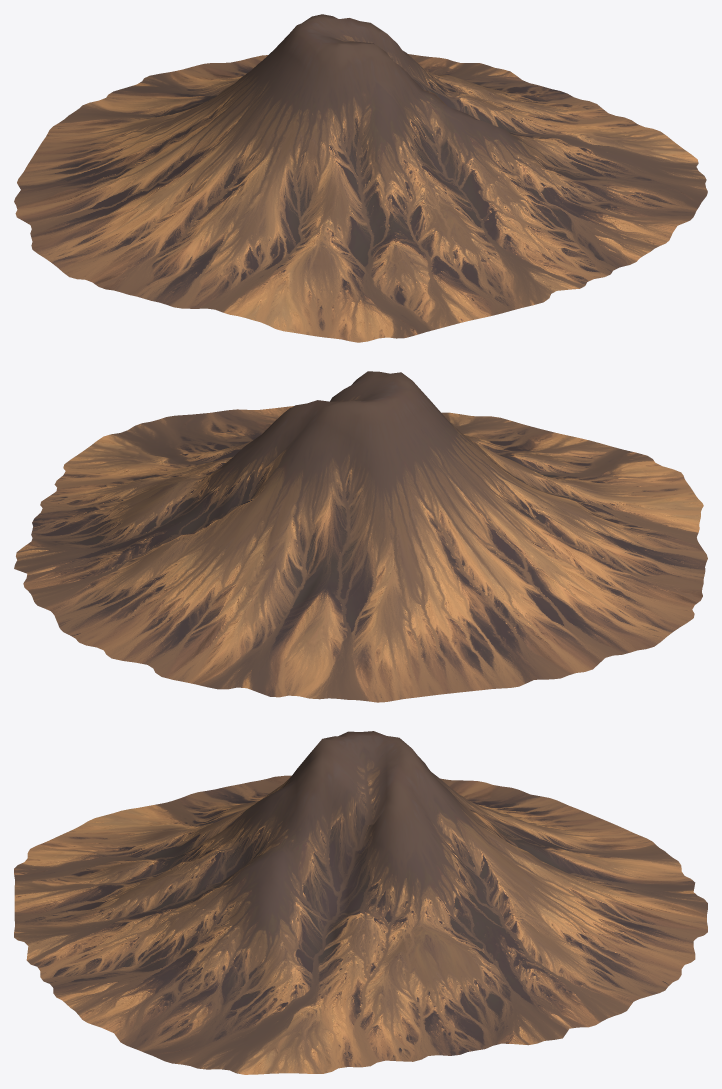
File: volcano.glb
The picture shows the model from 3 angles, top to bottom: view 1: azimuth 30°, elevation 25°; view 2: azimuth 150°, elevation 25°; view 3: azimuth 270°, elevation 25°; orthographic projection. The views are drawn at different scales.
Parts seen in each view (by area): view 1: Volcano; view 2: Volcano; view 3: Volcano.
Boxes of the visible parts, x1,y1,x2,y2 form: Volcano: [14, 14, 707, 342]; Volcano: [14, 371, 707, 702]; Volcano: [14, 731, 707, 1074].
Size of the model in its own units: 87.68 by 23.57 by 84.55.
Materials: 1 (1 with a texture image).
